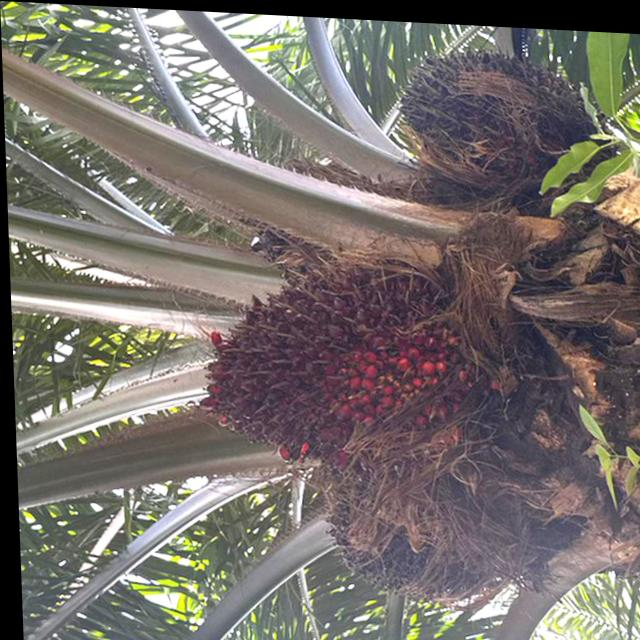ripe: (177, 236, 501, 492), (379, 25, 594, 194)
